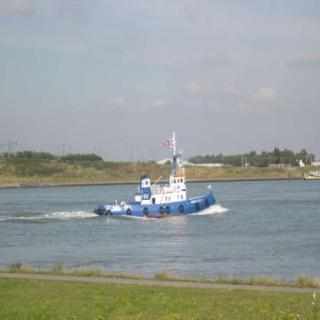Tug Boat: (96, 132, 216, 218)
